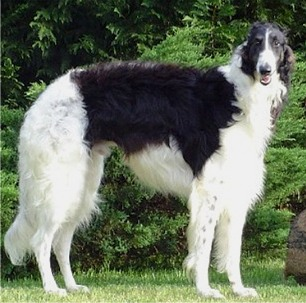borzoi: (3, 17, 298, 298)
